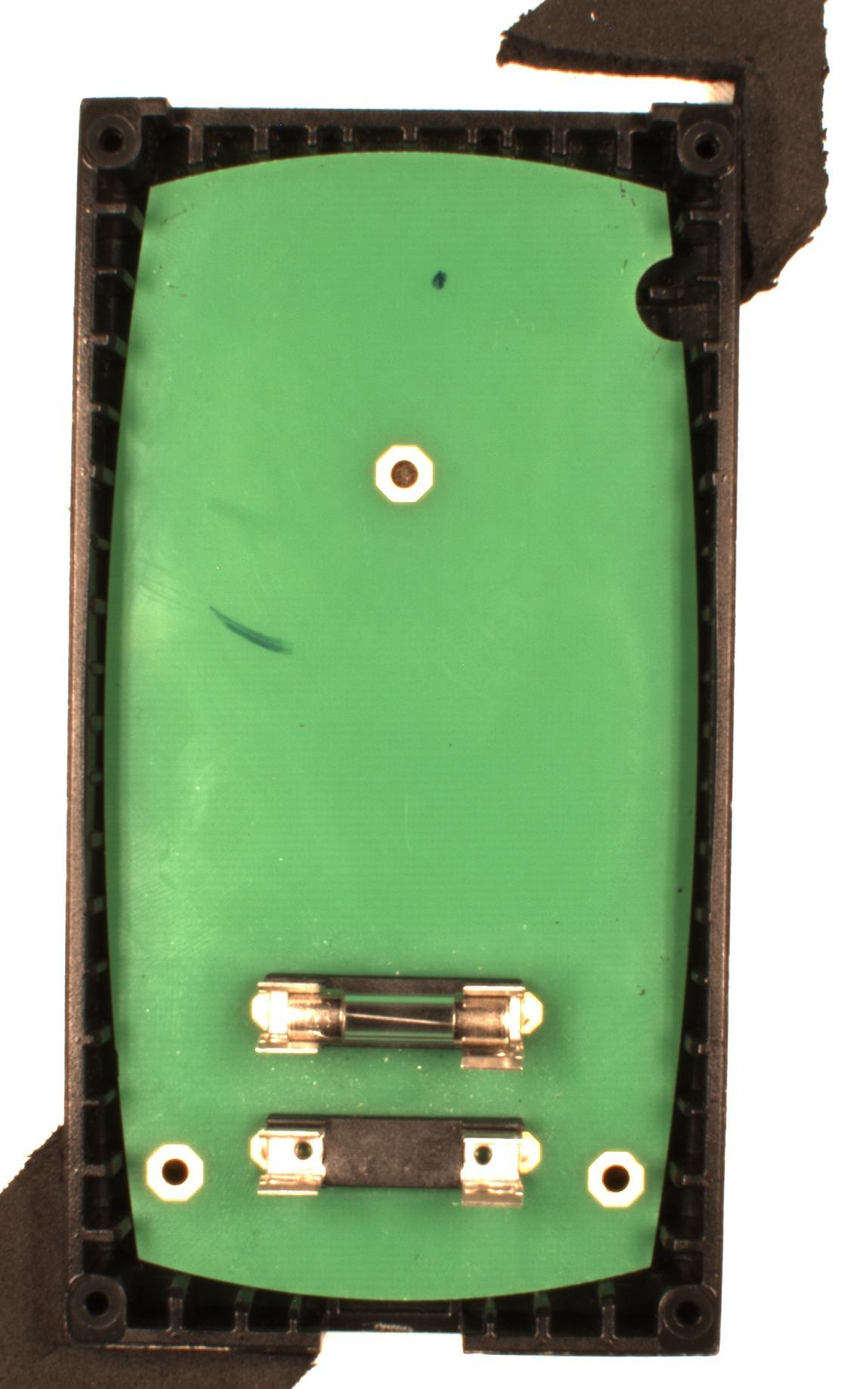Linijsko Ostecene: (207, 601, 296, 658)
Nepostojanje osiguraca: (250, 1112, 543, 1210)
Tockasto Ostecenje: (430, 270, 448, 291)
